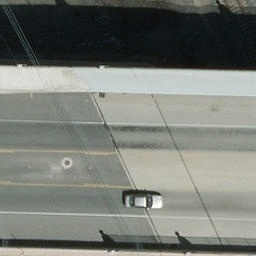car: (125, 194, 164, 209)
